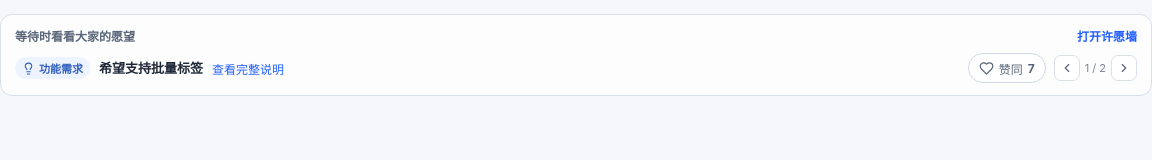
Test: 投票改变优先级后重新排序并保持当前愿望可见
Expected: the text "希望支持批量标签" is shown, [99, 59, 203, 77]
Click the button named "下一个愿望" at (1124, 68), box [1111, 55, 1137, 81]
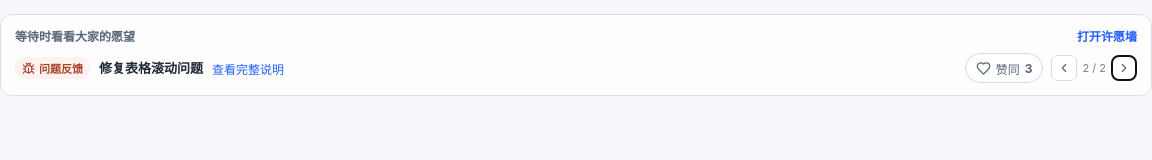
Click the button "赞同 3" at (1004, 68), box [965, 53, 1044, 83]
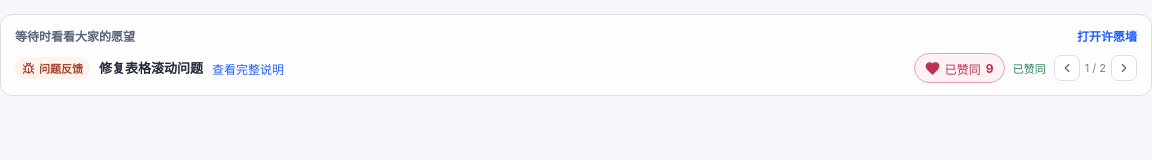
Result: the text "修复表格滚动问题" is shown at [99, 59, 203, 77]
Result: the button "已赞同 9" is shown at [914, 53, 1005, 83]
Result: the text "1 / 2" is shown at [1085, 61, 1106, 75]
Click the button named "下一个愿望" at (1124, 68), box [1111, 55, 1137, 81]
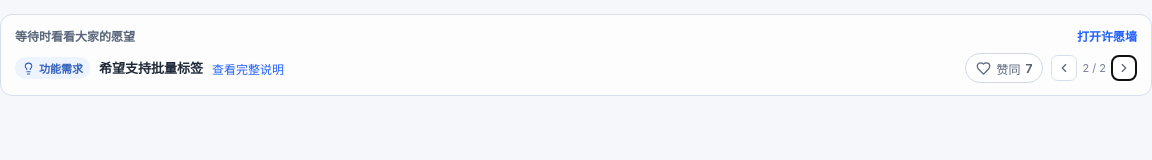
Result: the text "希望支持批量标签" is shown at [99, 59, 203, 77]
